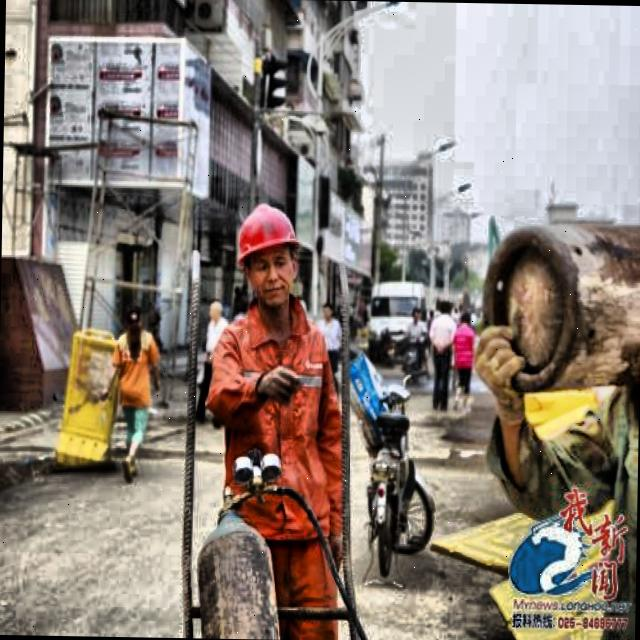helmet: (230, 190, 310, 316)
